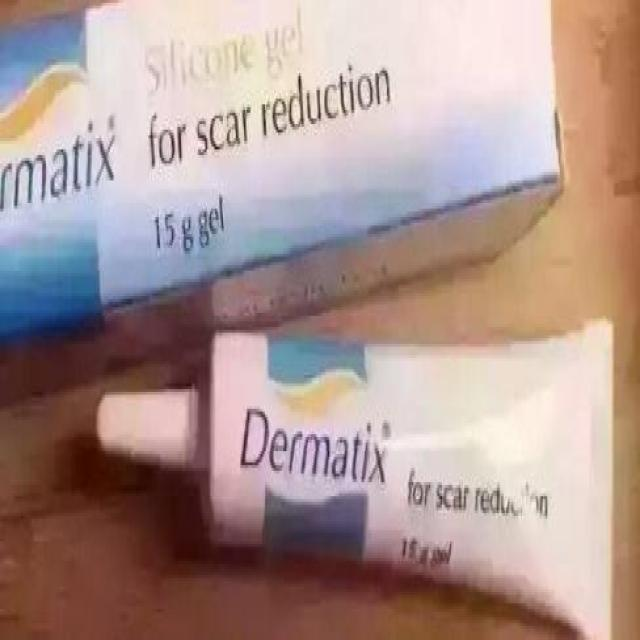-Hazardous waste - medicine inner packaging-: (92, 316, 613, 640)
-Recyclables - paper box-: (3, 3, 559, 332)
